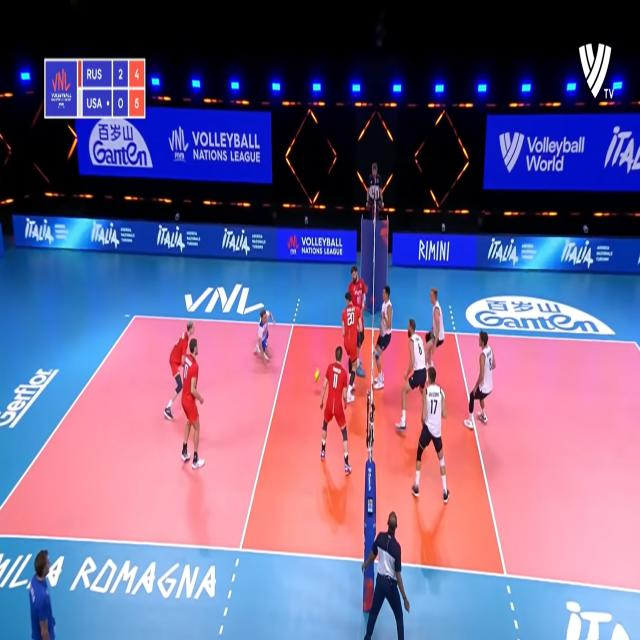player: (414, 365, 450, 507), (323, 348, 353, 473), (183, 331, 206, 474), (401, 318, 427, 427), (166, 324, 192, 419), (342, 292, 362, 405), (470, 331, 492, 427), (375, 286, 392, 392), (351, 264, 366, 381), (255, 307, 279, 362), (429, 280, 444, 366)
